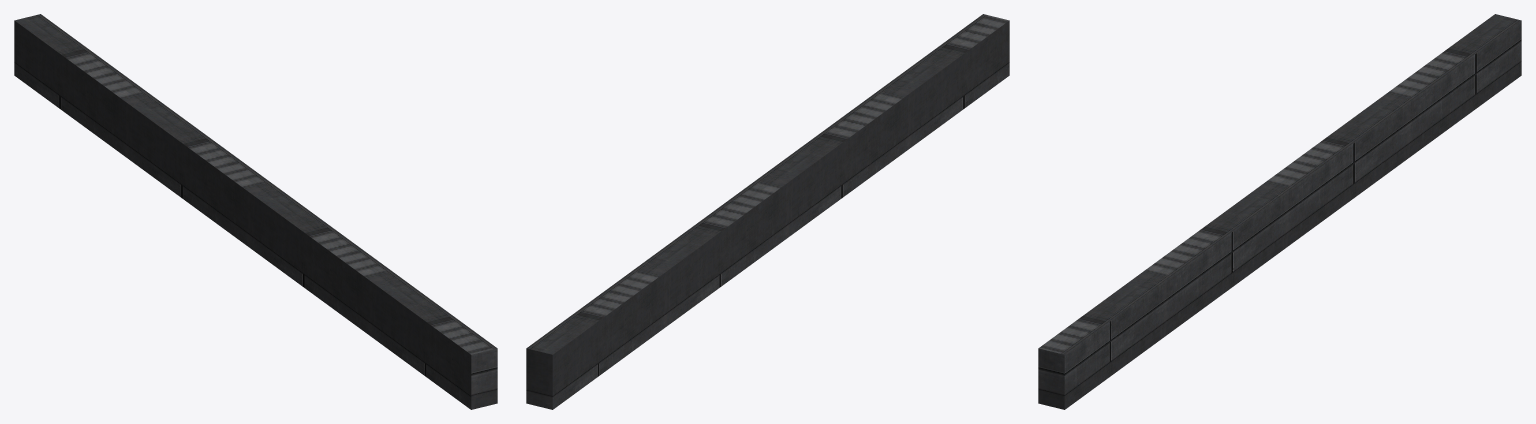
Rendered from Neon_TubeWallC1.FBX.
3 views of the same model, side by side, from view 1: azimuth 30°, elevation 25°; view 2: azimuth 150°, elevation 25°; view 3: azimuth 330°, elevation 25° (orthographic).
Parts seen in each view (by area): view 1: Neon_TubeWallC1; view 2: Neon_TubeWallC1; view 3: Neon_TubeWallC1.
Part boxes in pixels (x1,y1,x2,y2): Neon_TubeWallC1: [14, 14, 497, 409]; Neon_TubeWallC1: [526, 14, 1009, 409]; Neon_TubeWallC1: [1038, 14, 1521, 409].
Bounding box in the file's own units: 1 × 2 × 30.
